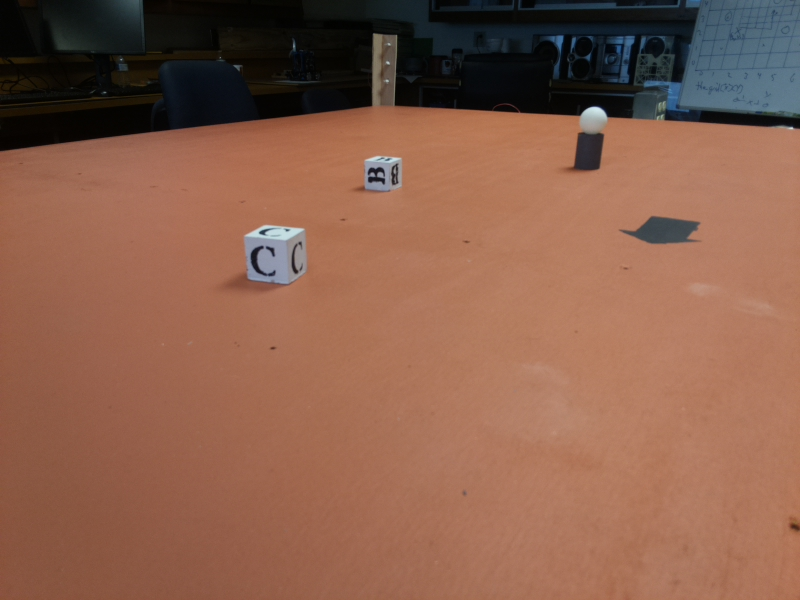blockB: (365, 155, 405, 190)
blockC: (247, 223, 309, 289)
corner: (372, 33, 400, 108)
obstacle: (573, 108, 607, 172)
start: (622, 214, 704, 248)
